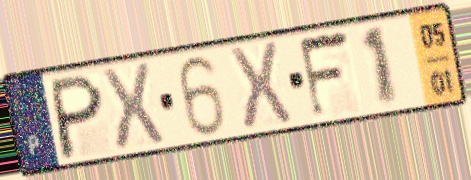1: (360, 22, 400, 112)
6: (177, 52, 229, 139)
F: (295, 26, 354, 123)
P: (50, 70, 106, 163)
X: (225, 39, 296, 135), (97, 60, 168, 156)
